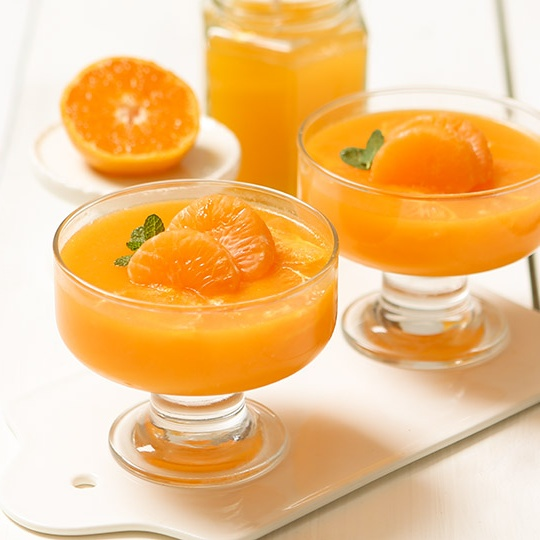mandarin: (61, 57, 202, 177), (166, 195, 279, 281), (367, 125, 482, 197), (127, 229, 240, 295)
